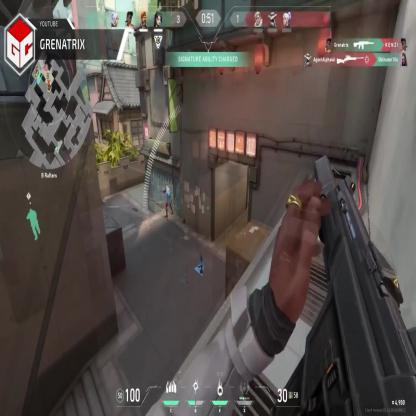enemy: (164, 182, 172, 218)
enemy_head: (166, 185, 168, 191)
